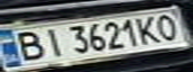1: (118, 16, 142, 47)
2: (103, 18, 124, 51)
3: (63, 22, 90, 55)
6: (84, 20, 109, 53)
B: (6, 28, 48, 63)
I: (36, 25, 69, 57)
K: (133, 14, 163, 45)
O: (151, 11, 187, 42)
